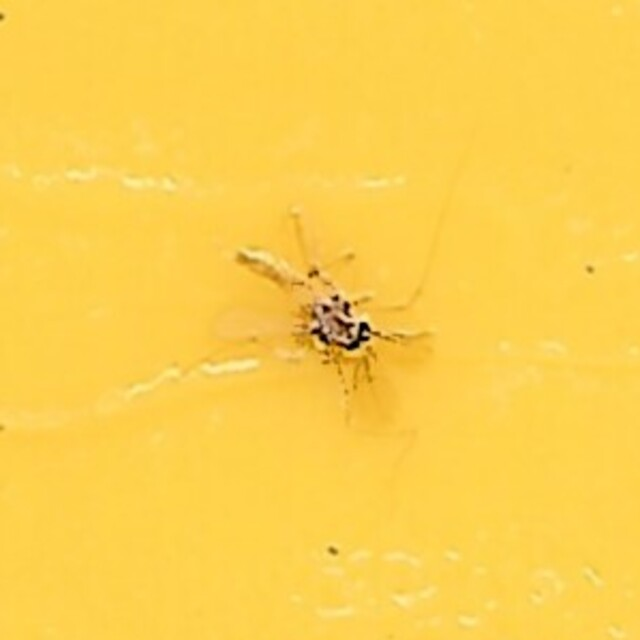Nematocera: (214, 234, 426, 406)
